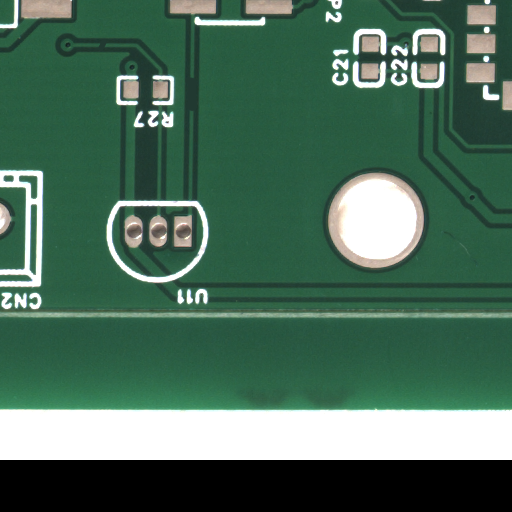Open_circuit: (190, 94, 197, 127), (103, 42, 110, 51)
